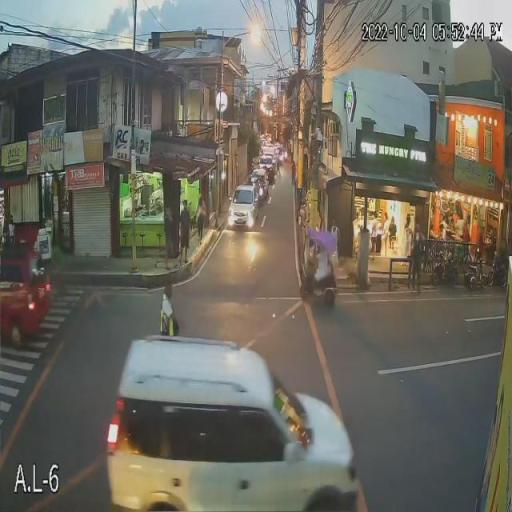motorcycle: (306, 256, 338, 307), (462, 255, 492, 291), (482, 256, 504, 290)
